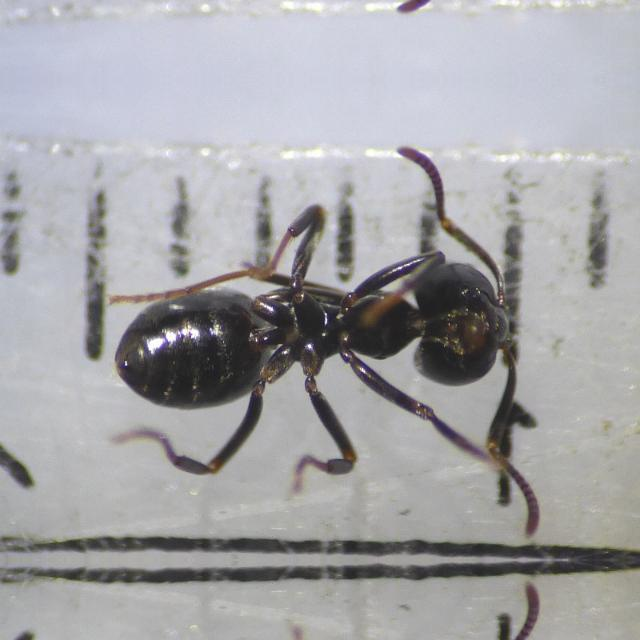Lasius: (82, 160, 574, 490)
